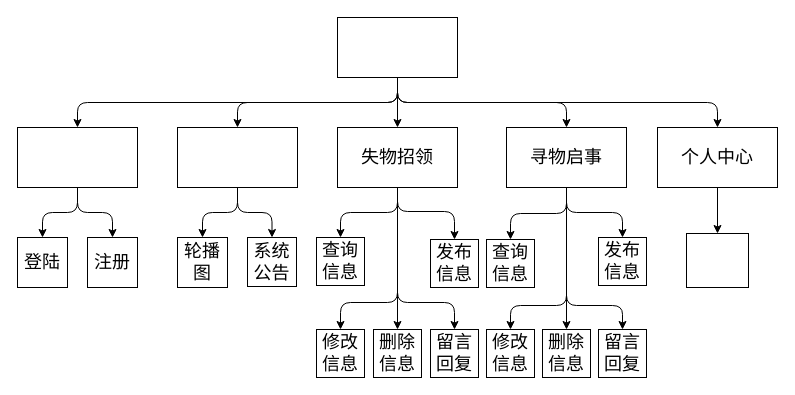
The diagram is 795 pixels wide and 395 high, and some of its shapes have lost their labels. The shapes that lost their labels are listed below. From the top down, each one's box as (x1, y1, x2, y2) in pixels, then its label:
(336, 16, 458, 78): 失物招领系统
(16, 126, 138, 188): 用户模块
(176, 126, 298, 188): 首页
(686, 232, 748, 288): 修改用户信息
